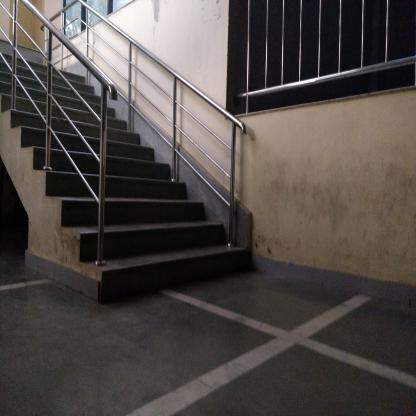stairs: (112, 188, 212, 311)
